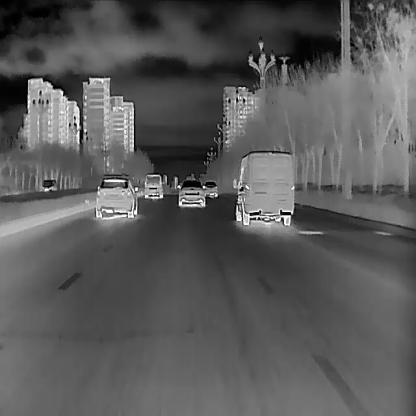car: (231, 150, 294, 225), (93, 172, 138, 218), (176, 179, 206, 207), (143, 173, 163, 198), (202, 181, 218, 198), (41, 178, 58, 192)
